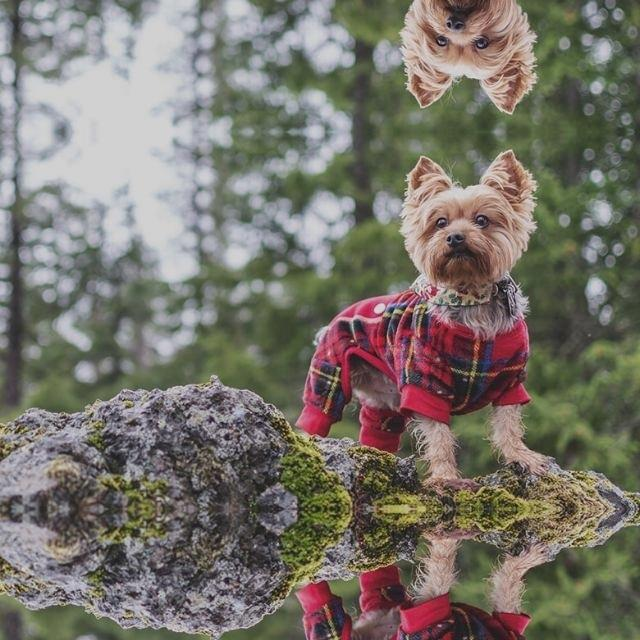dog: (392, 136, 546, 292), (392, 0, 545, 126)
